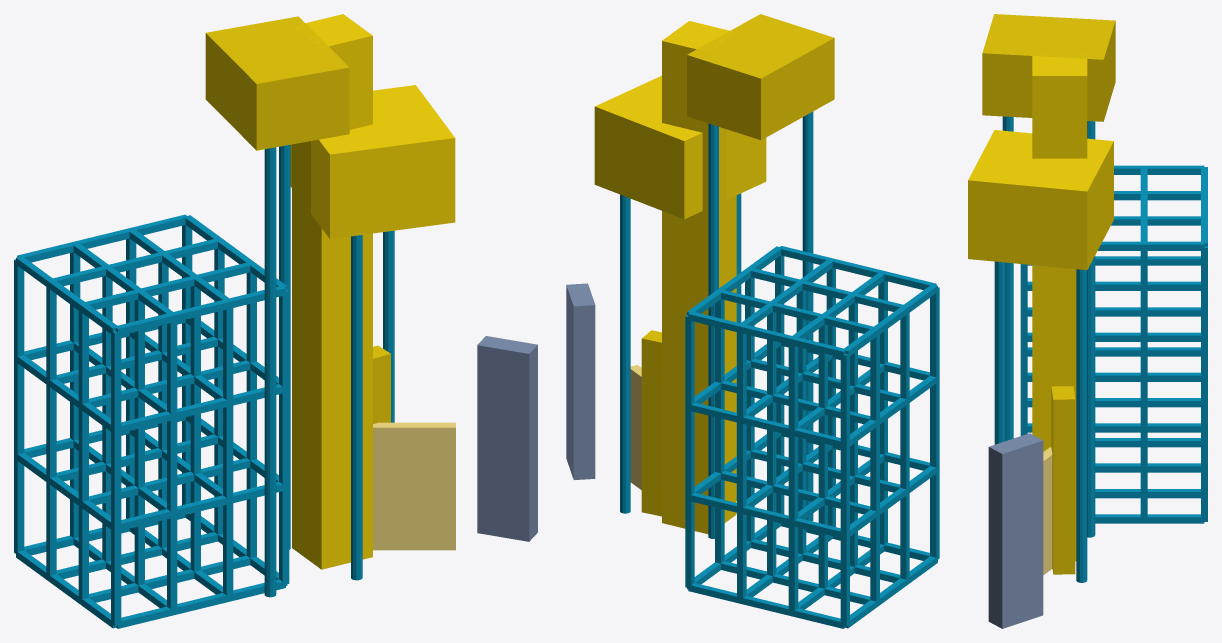
The model's file is folie_tag_135.glb.
3 views of the same model, side by side, from view 1: azimuth 30°, elevation 25°; view 2: azimuth 150°, elevation 25°; view 3: azimuth 270°, elevation 25° (orthographic). The views are drawn at different scales.
Parts seen in each view (by area): view 1: folie_tag_135_00_cage, folie_tag_135_core, folie_tag_135_01_block, folie_tag_135_02_block, folie_tag_135_line, folie_tag_135_03_fin, folie_tag_135_05_panel, folie_tag_135_04_fin; view 2: folie_tag_135_00_cage, folie_tag_135_core, folie_tag_135_02_block, folie_tag_135_01_block, folie_tag_135_line, folie_tag_135_03_fin, folie_tag_135_04_fin, folie_tag_135_05_panel; view 3: folie_tag_135_00_cage, folie_tag_135_01_block, folie_tag_135_core, folie_tag_135_03_fin, folie_tag_135_02_block, folie_tag_135_line, folie_tag_135_04_fin, folie_tag_135_05_panel.
Boxes of the visible parts, x1=… form: folie_tag_135_00_cage: x1=14, y1=214, x2=289, y2=628; folie_tag_135_core: x1=292, y1=14, x2=372, y2=569; folie_tag_135_01_block: x1=290, y1=85, x2=455, y2=239; folie_tag_135_02_block: x1=205, y1=16, x2=349, y2=150; folie_tag_135_line: x1=264, y1=144, x2=394, y2=597; folie_tag_135_03_fin: x1=477, y1=336, x2=537, y2=541; folie_tag_135_05_panel: x1=373, y1=422, x2=455, y2=550; folie_tag_135_04_fin: x1=373, y1=345, x2=390, y2=423; folie_tag_135_00_cage: x1=685, y1=246, x2=939, y2=628; folie_tag_135_core: x1=662, y1=21, x2=736, y2=534; folie_tag_135_02_block: x1=687, y1=14, x2=834, y2=140; folie_tag_135_01_block: x1=594, y1=75, x2=766, y2=219; folie_tag_135_line: x1=620, y1=111, x2=813, y2=538; folie_tag_135_03_fin: x1=566, y1=283, x2=595, y2=479; folie_tag_135_04_fin: x1=641, y1=330, x2=661, y2=516; folie_tag_135_05_panel: x1=630, y1=365, x2=641, y2=489; folie_tag_135_00_cage: x1=1020, y1=165, x2=1207, y2=523; folie_tag_135_01_block: x1=968, y1=130, x2=1113, y2=270; folie_tag_135_core: x1=1032, y1=52, x2=1087, y2=561; folie_tag_135_03_fin: x1=988, y1=433, x2=1043, y2=628; folie_tag_135_02_block: x1=982, y1=14, x2=1115, y2=121; folie_tag_135_line: x1=994, y1=116, x2=1095, y2=582; folie_tag_135_04_fin: x1=1051, y1=386, x2=1075, y2=574; folie_tag_135_05_panel: x1=1043, y1=447, x2=1052, y2=574.
Size of the model in its own units: 8.86 by 10.75 by 4.79.
